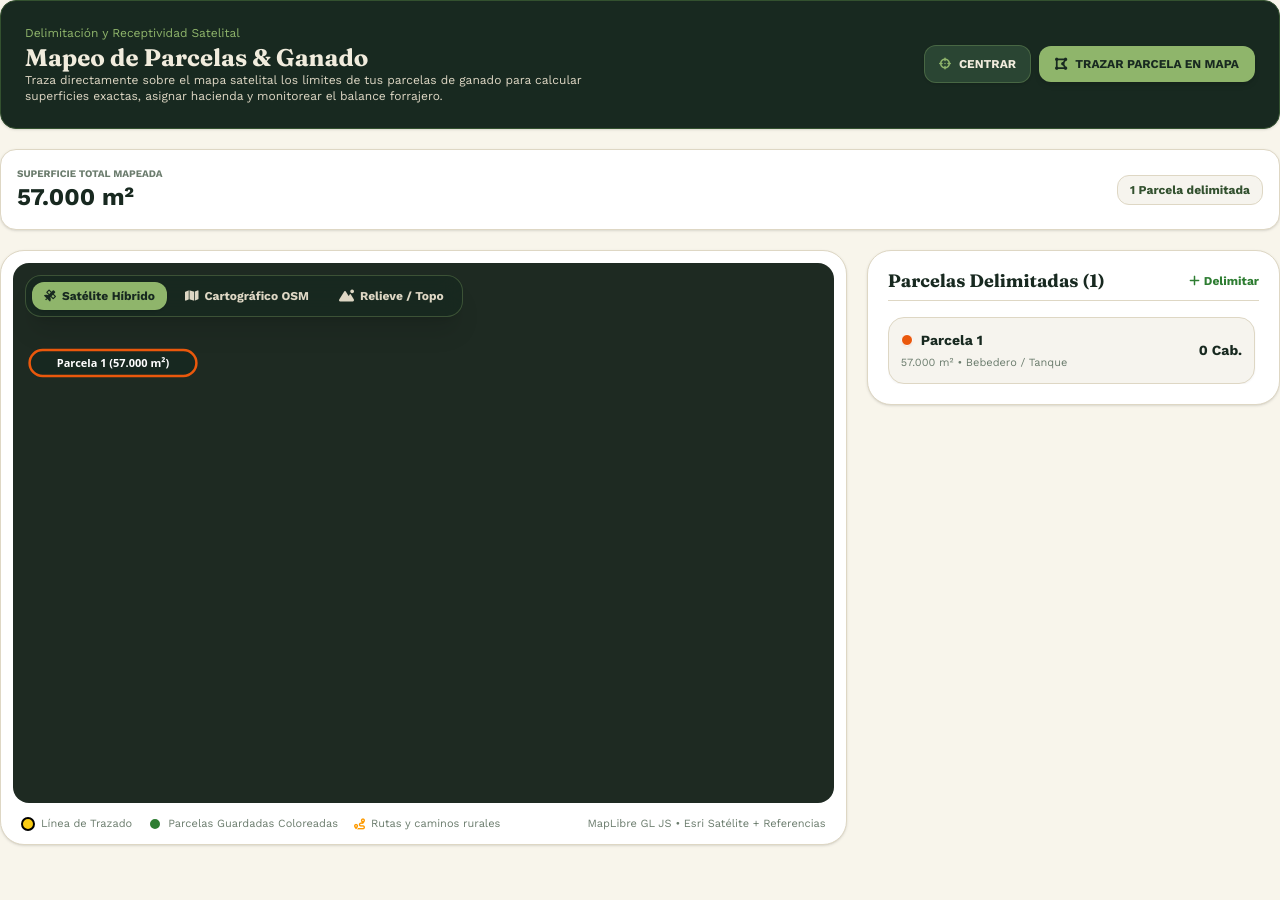
Vista de Parcelas y Potreros (ParcelasView.jsx) › permite editar una parcela existente desde el menú de opciones (3 rayitas) enviando PATCH /api/dashboard/potreros/:id
This screenshot has width=1280, height=900.
Click the text "Parcela 1": (952, 340) [921,330,983,350]
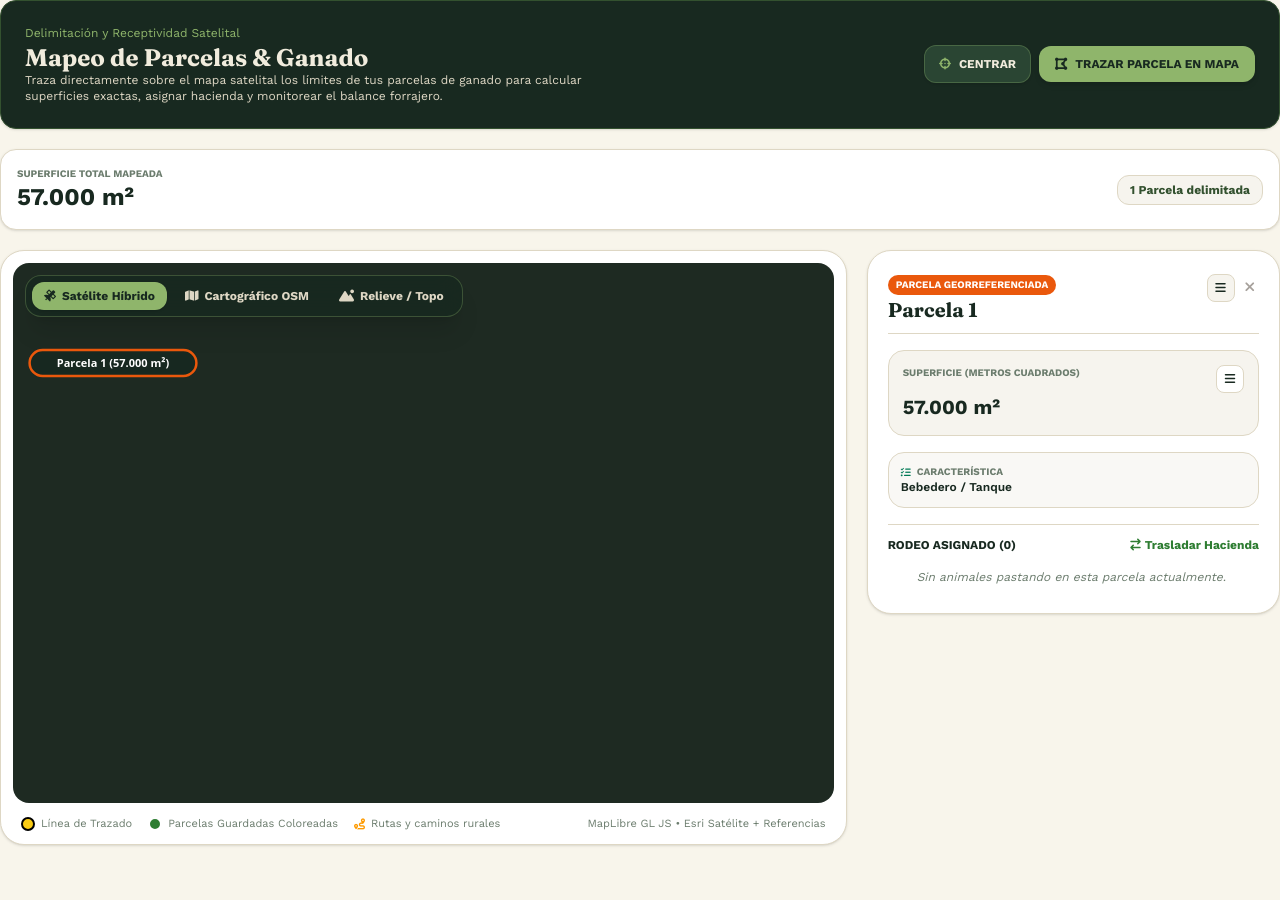
Now the text "Característica" is shown, box [901,466,1003,477]
# Abrir menú de 3 rayitas (Opciones de parcela) con Editar Parcela y Eliminar Parcela
Click the button named "Opciones de parcela": (1220, 288) [1206,274,1234,302]
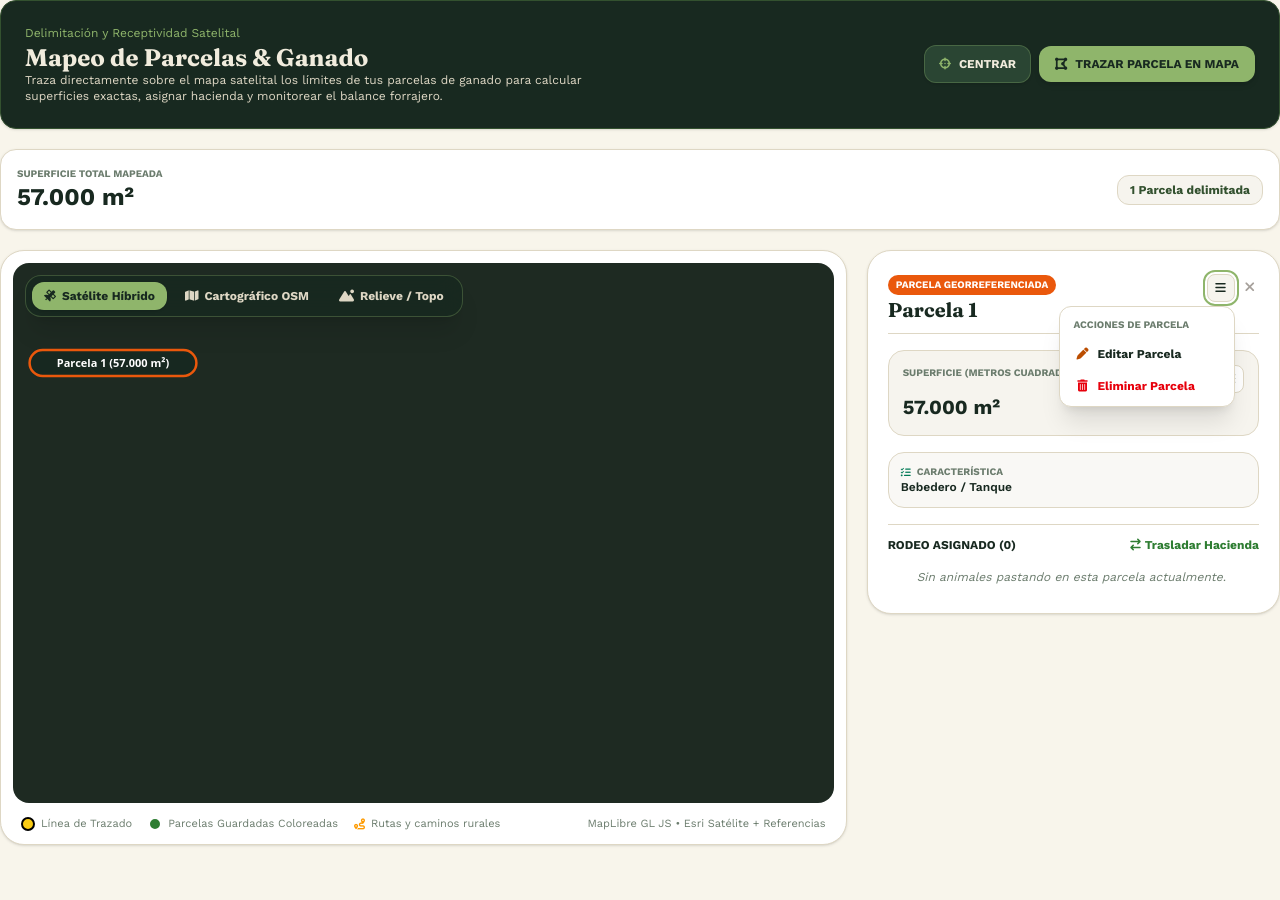
Now the button "Eliminar Parcela" is shown, box [1066,372,1228,400]
Click the button "Editar Parcela": (1146, 354) [1066,340,1228,368]
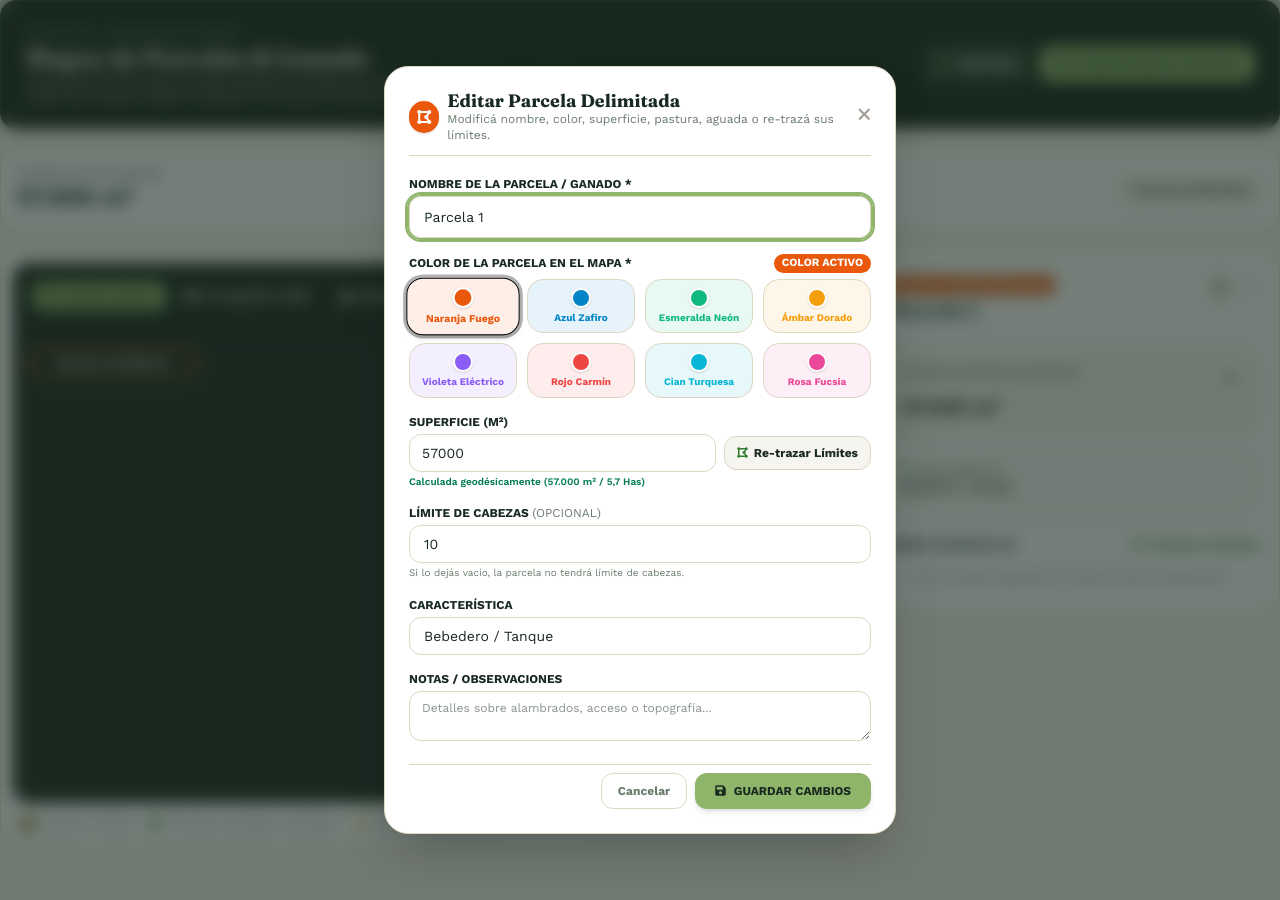
Now the heading "Editar Parcela Delimitada" is shown, box [447,89,680,112]
Replace the text in the field showing "Parcela 1" below "Nombre de la Parcela / Ganado *" with "Potrero La Loma": (640, 217) [409,196,871,238]
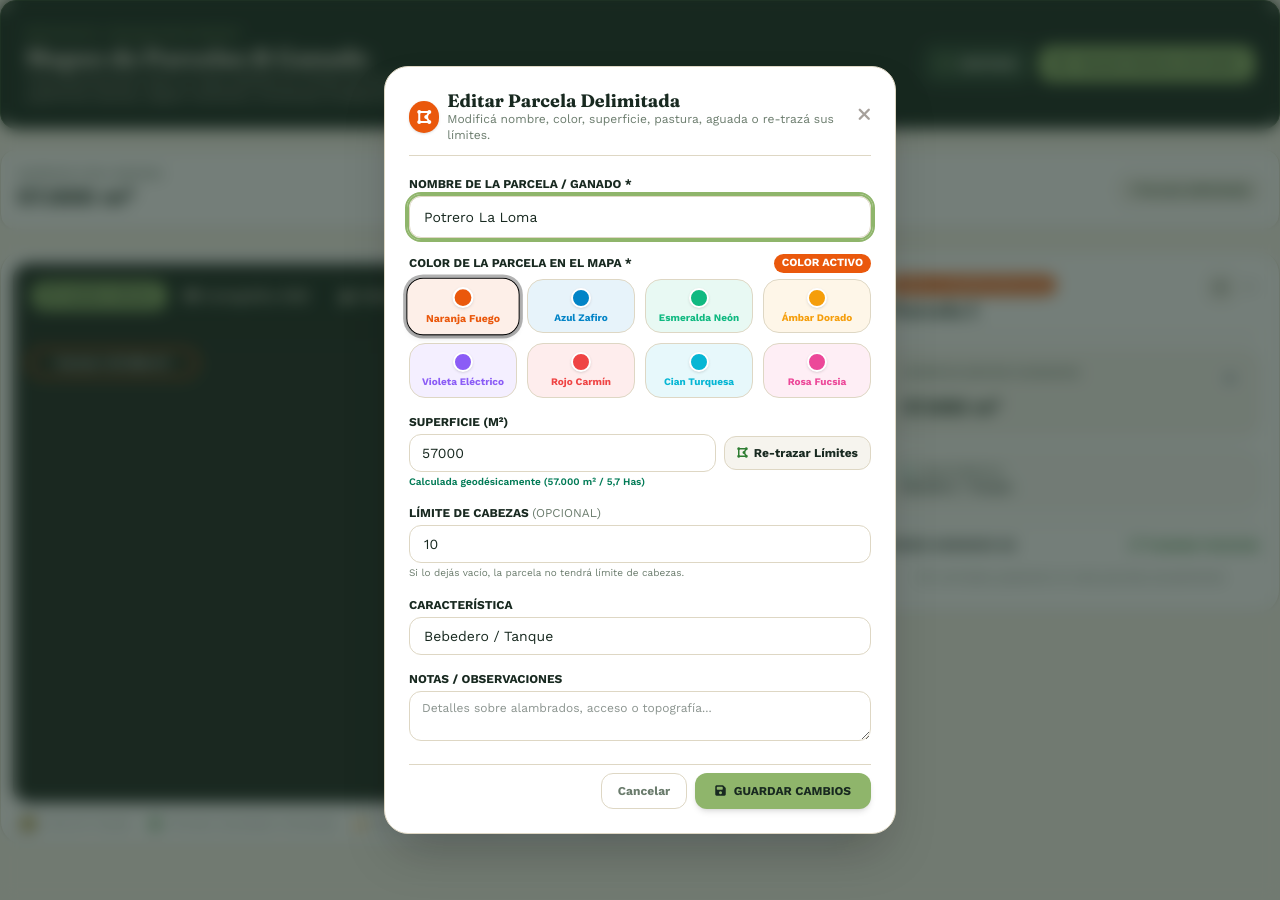
Click the button "Guardar Cambios": (783, 791) [695,773,871,809]
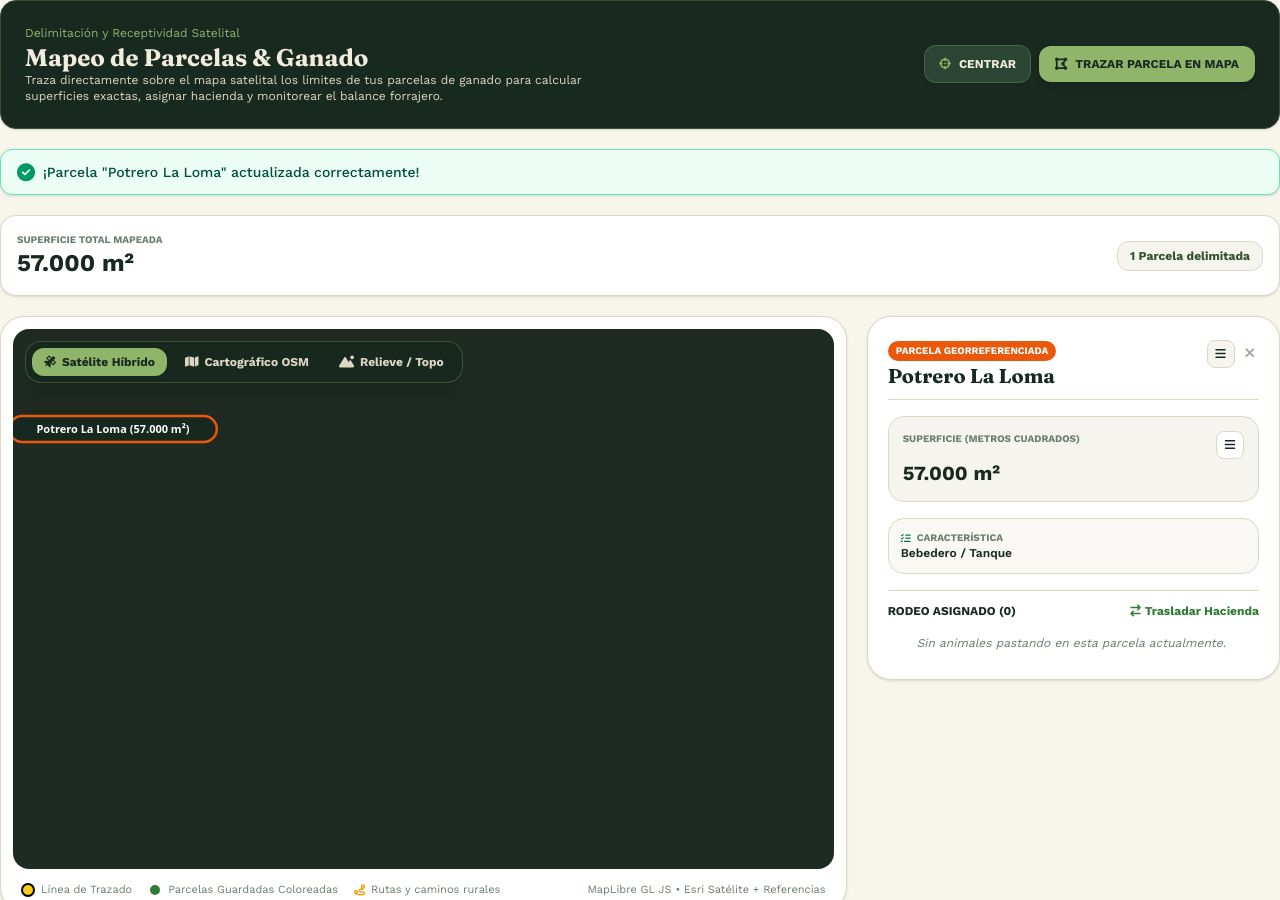
Now the heading "Potrero La Loma" is shown, box [888,365,1056,387]
